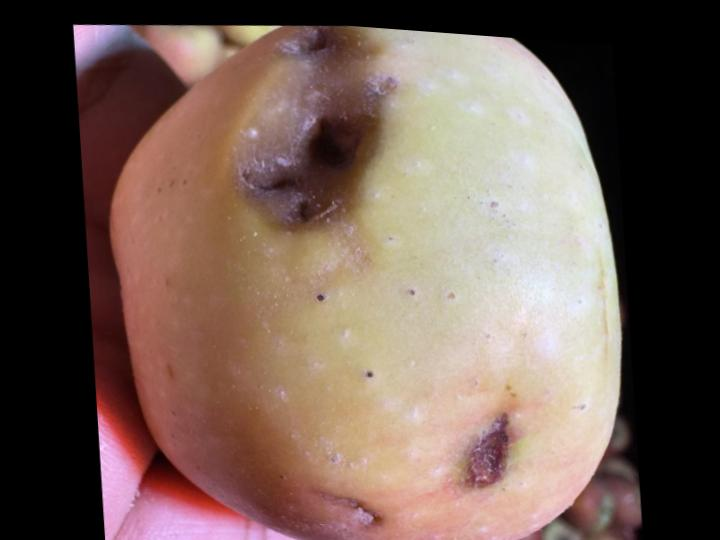apple: (110, 26, 619, 540)
surface_damage: (232, 26, 396, 232), (305, 484, 383, 534), (465, 411, 511, 492)
